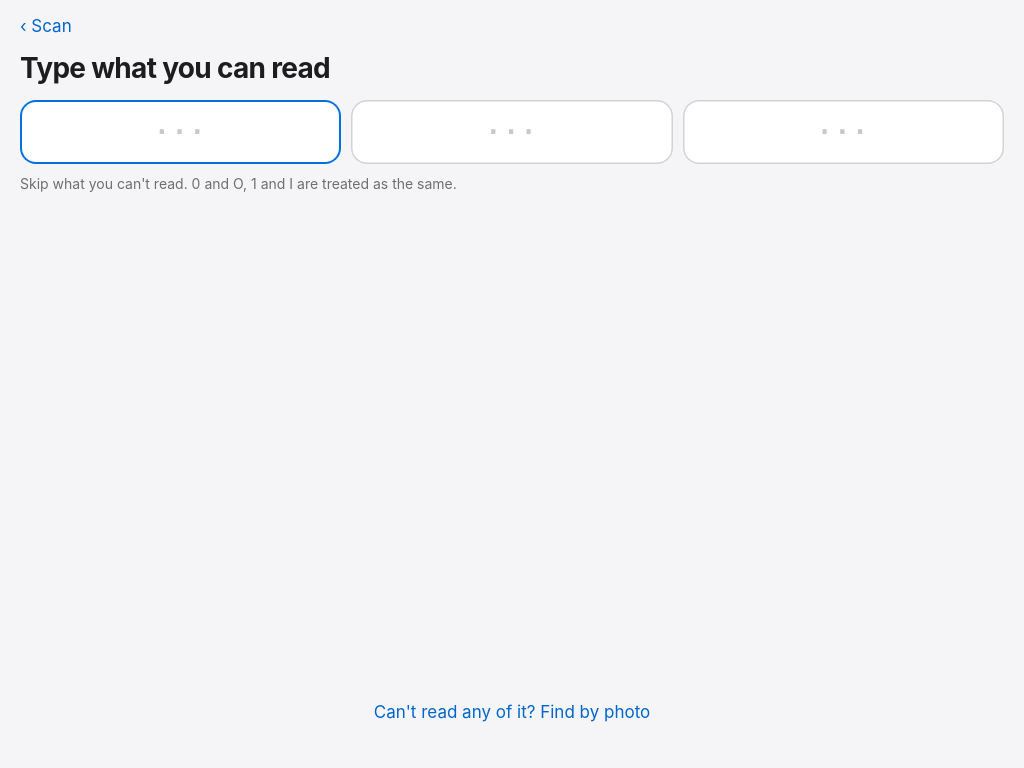
Scenario: F2 Type what you can read › moves to the next box after three characters, folding 0 and 1
Type "rn1" into the field with test id "code-box-0" at (181, 132), box [20,100,341,164]
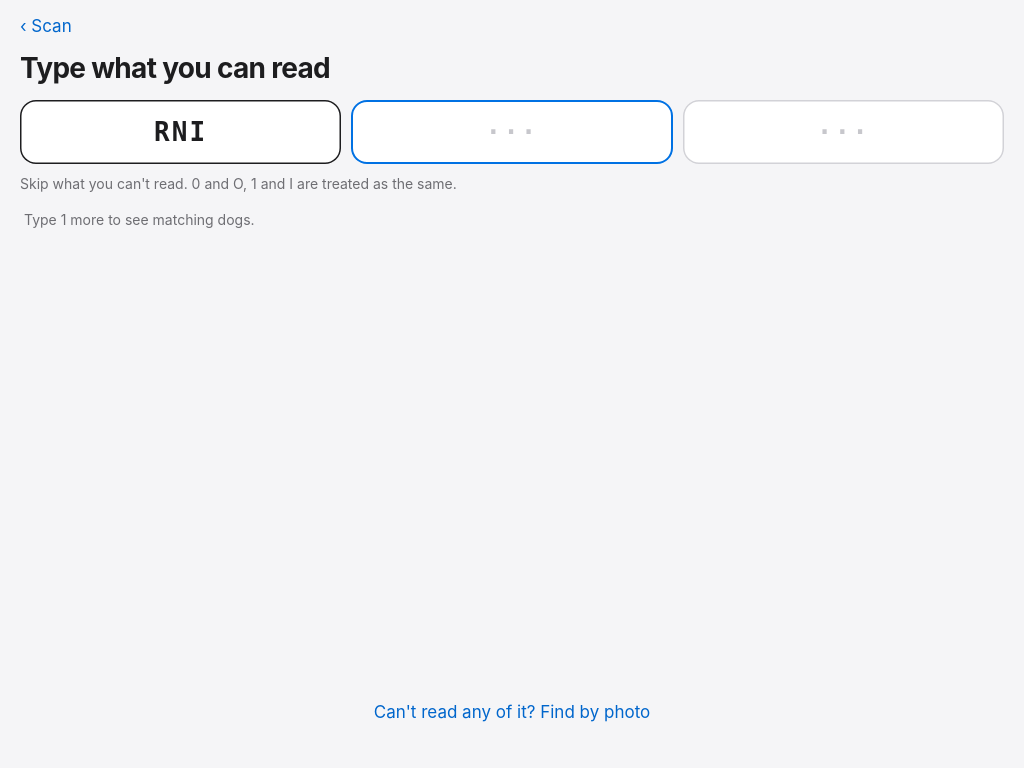
Expected: the field with test id "code-box-0" holds "RNI", [20,100,341,164]
Type "0" into the field with test id "code-box-1" at (512, 132), box [351,100,673,164]
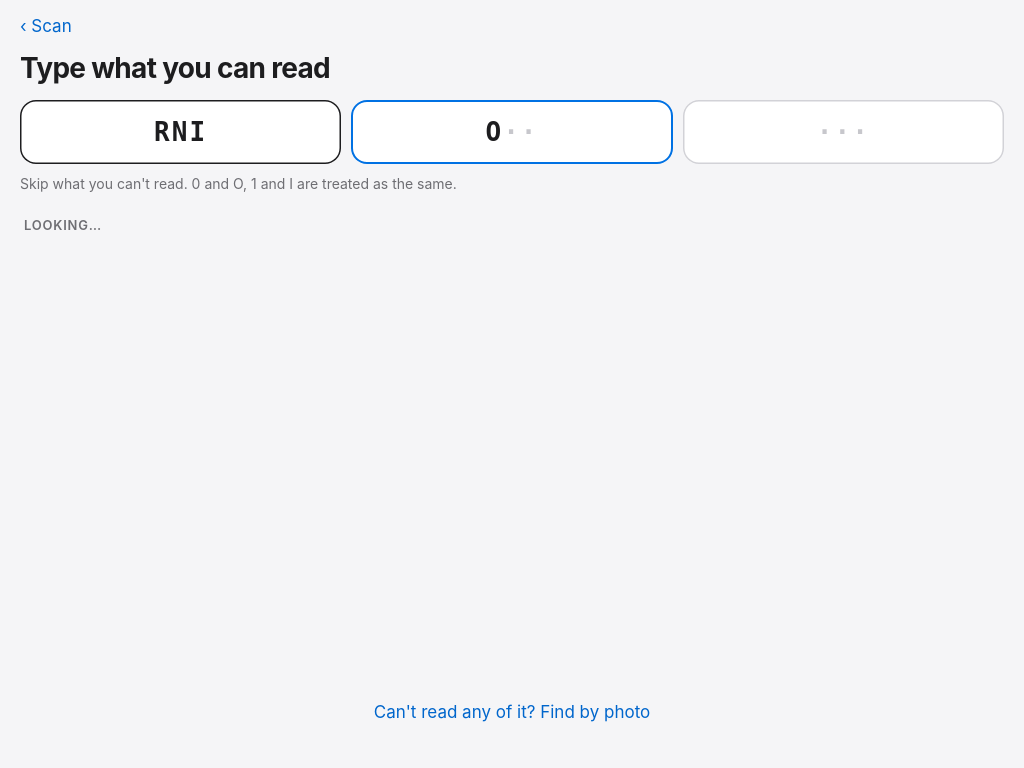
Expected: the field with test id "code-box-1" holds "O", [351,100,673,164]
